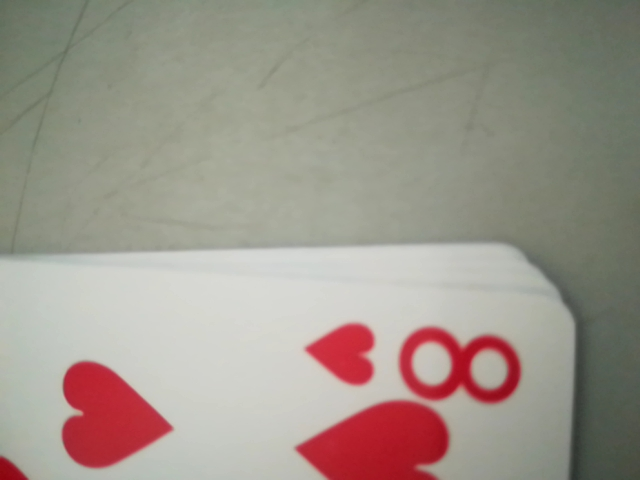hx 8: (291, 315, 524, 409)
